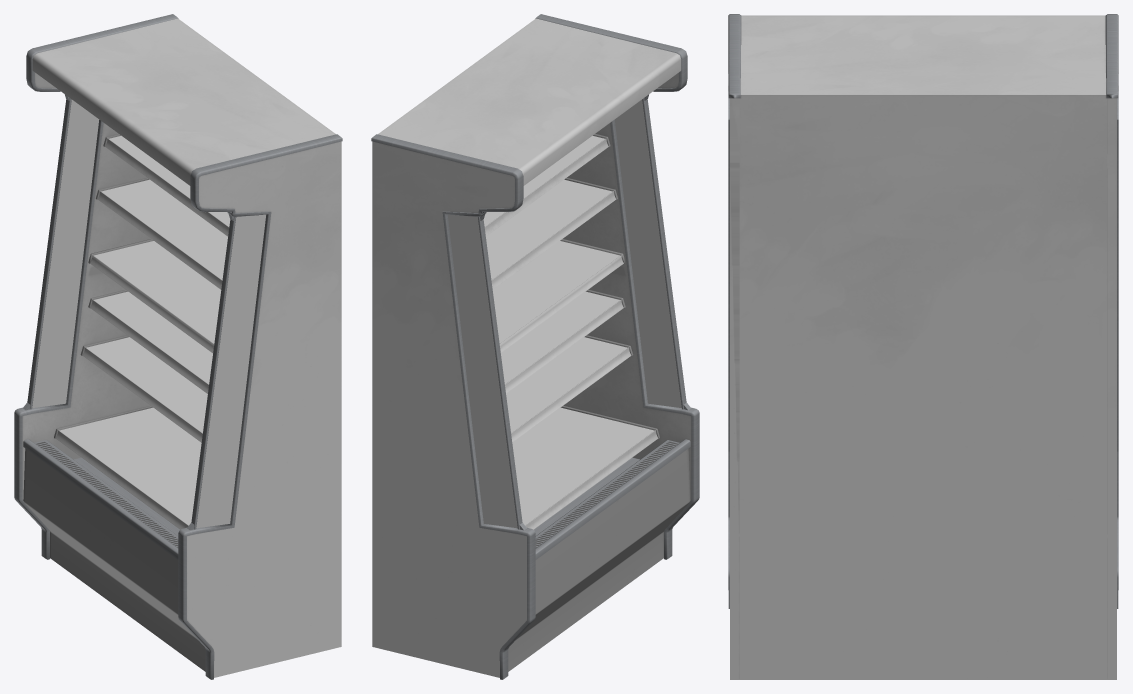
File: SM_Freezer_01_Dense.fbx
3 views of the same model, side by side, from view 1: azimuth 30°, elevation 25°; view 2: azimuth 150°, elevation 25°; view 3: azimuth 270°, elevation 25° (orthographic). The views are drawn at different scales.
Visible parts, largest first — view 1: SM_Freezer_01_Dense_LOD0; view 2: SM_Freezer_01_Dense_LOD0; view 3: SM_Freezer_01_Dense_LOD0.
Boxes of the visible parts, <box> form: SM_Freezer_01_Dense_LOD0: <box>14,14,342,679</box>; SM_Freezer_01_Dense_LOD0: <box>371,14,699,679</box>; SM_Freezer_01_Dense_LOD0: <box>728,14,1118,679</box>.
Bounding box in the file's own units: 65.75 × 121 × 201.
2 materials, 1 textured.
